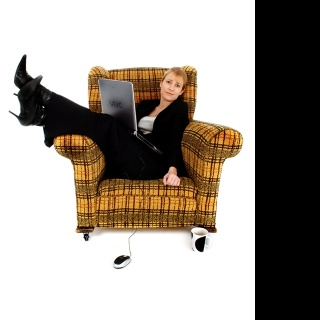without_mask: (161, 71, 186, 101)
